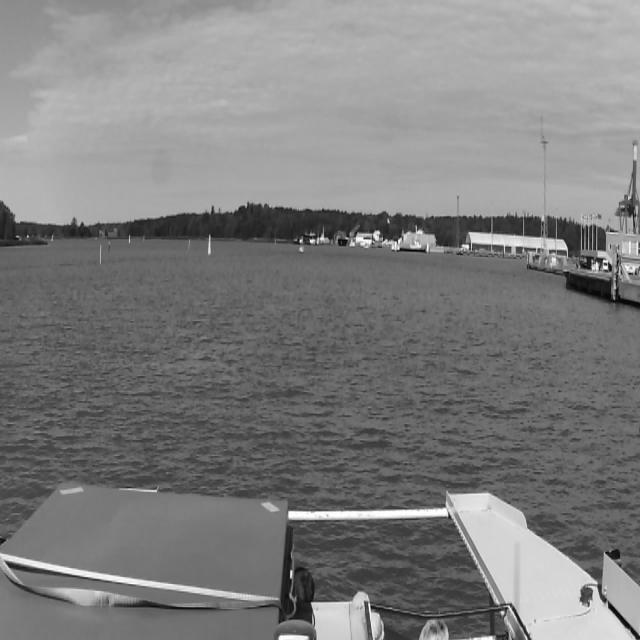buoy: (205, 232, 211, 252), (106, 234, 110, 258)
ship: (317, 226, 329, 245), (304, 231, 316, 245), (297, 243, 307, 253)
